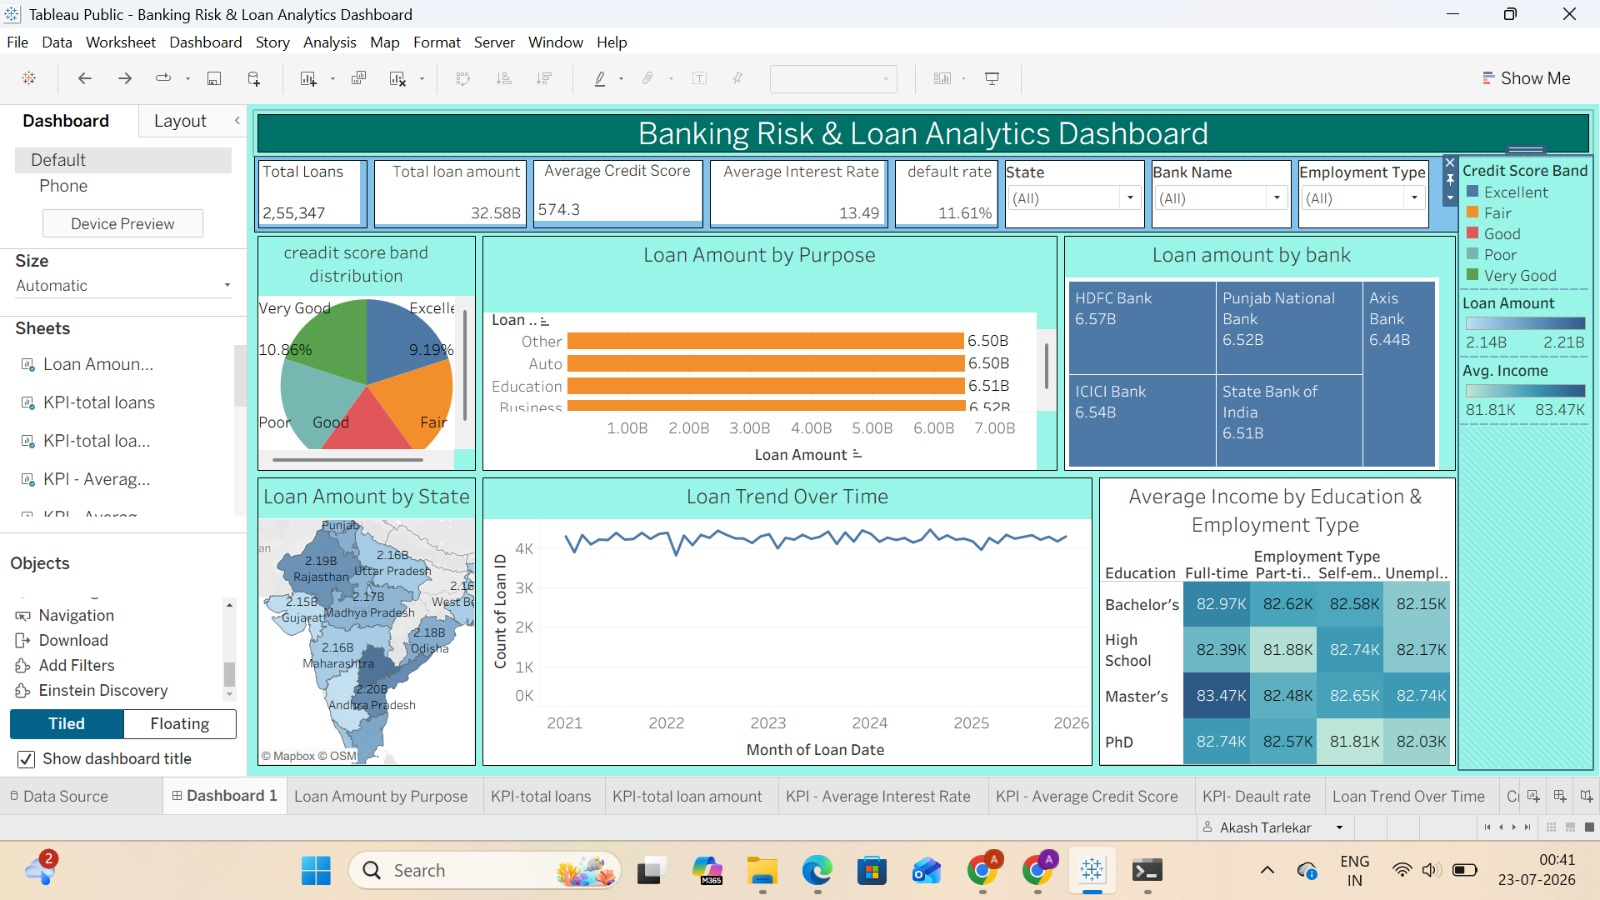

The dashboard page shown, as its layout file describes it:
{"tool":"tableau","page":{"name":"Dashboard 1","canvas":[1000,1000],"units":"permille","ordinal":0},"visuals":[{"type":"legend","title":"Credit Score Band Distribution","param":"[federated.0bchrg80fb2i9716r7f891nrnefv].[none:Calculation_1367543462850561:nk]","box":[896.4,9.9,98.6,197.3]},{"type":"worksheet","title":"KPI-total loans","mark":"Text","box":[5.5,11.2,85.7,120.3]},{"type":"worksheet","title":"KPI-total loan amount","mark":"Automatic","box":[91.2,11.2,117.8,120.3]},{"type":"worksheet","title":"KPI - Average Credit Score","mark":"Automatic","box":[209,11.2,130.7,120.3]},{"type":"worksheet","title":"KPI - Average Interest Rate","mark":"Automatic","box":[339.7,11.2,136.9,120.3]},{"type":"worksheet","title":"KPI- Deault rate","mark":"Automatic","box":[476.6,11.2,81.4,120.3]},{"type":"filter","title":"Loan Amount by Purpose","param":"[federated.0bchrg80fb2i9716r7f891nrnefv].[none:State:nk]","box":[557.9,11.2,108.5,120.3]},{"type":"filter","title":"Loan amount by bank","param":"[federated.0bchrg80fb2i9716r7f891nrnefv].[none:BankName:nk]","box":[666.5,11.2,108.5,120.3]},{"type":"filter","title":"Average Income by Education & Employment Type","param":"[federated.0bchrg80fb2i9716r7f891nrnefv].[none:EmploymentType:nk]","box":[775,11.2,101.7,120.3]},{"type":"worksheet","title":"Credit Score Band Distribution","mark":"Pie","box":[4.9,132.8,166.5,416.9]},{"type":"worksheet","title":"Loan Amount by Purpose","mark":"Automatic","rows":["LoanPurpose"],"cols":["LoanAmount"],"box":[171.4,132.8,430.3,416.9]},{"type":"worksheet","title":"Loan amount by bank","mark":"Automatic","box":[601.7,132.8,294.7,416.9]},{"type":"legend","title":"Loan Amount by State","param":"[federated.0bchrg80fb2i9716r7f891nrnefv].[sum:LoanAmount:qk]","box":[896.4,207.2,98.6,100.5]},{"type":"legend","title":"Average Income by Education & Employment Type","param":"[federated.0bchrg80fb2i9716r7f891nrnefv].[avg:Income:qk]","box":[896.4,307.7,98.6,100.5]},{"type":"worksheet","title":"Loan Amount by State","mark":"Multipolygon","box":[4.9,549.6,166.5,440.4]},{"type":"worksheet","title":"Loan Trend Over Time","mark":"Automatic","rows":["LoanID"],"cols":["LoanDate"],"box":[171.4,549.6,456.2,440.4]},{"type":"worksheet","title":"Average Income by Education & Employment Type","mark":"Square","rows":["Education"],"cols":["EmploymentType"],"box":[627.6,549.6,268.8,440.4]}]}

Visuals, with their boxes on the dashboard's canvas, which has no fixed pixel size, in thousandths of its width and height (x1, y1, x2, y2). These are canvas units, not pixel positions in the 1600x900 screenshot, which may show the page scaled, cropped or inside an application window:
"Credit Score Band Distribution" legend: select_region(896, 10, 995, 207)
"KPI-total loans" worksheet (Text marks): select_region(6, 11, 91, 132)
"KPI-total loan amount" worksheet: select_region(91, 11, 209, 132)
"KPI - Average Credit Score" worksheet: select_region(209, 11, 340, 132)
"KPI - Average Interest Rate" worksheet: select_region(340, 11, 477, 132)
"KPI- Deault rate" worksheet: select_region(477, 11, 558, 132)
"Loan Amount by Purpose" filter: select_region(558, 11, 666, 132)
"Loan amount by bank" filter: select_region(666, 11, 775, 132)
"Average Income by Education & Employment Type" filter: select_region(775, 11, 877, 132)
"Credit Score Band Distribution" worksheet (Pie marks): select_region(5, 133, 171, 550)
"Loan Amount by Purpose" worksheet: select_region(171, 133, 602, 550)
"Loan amount by bank" worksheet: select_region(602, 133, 896, 550)
"Loan Amount by State" legend: select_region(896, 207, 995, 308)
"Average Income by Education & Employment Type" legend: select_region(896, 308, 995, 408)
"Loan Amount by State" worksheet (Multipolygon marks): select_region(5, 550, 171, 990)
"Loan Trend Over Time" worksheet: select_region(171, 550, 628, 990)
"Average Income by Education & Employment Type" worksheet (Square marks): select_region(628, 550, 896, 990)
